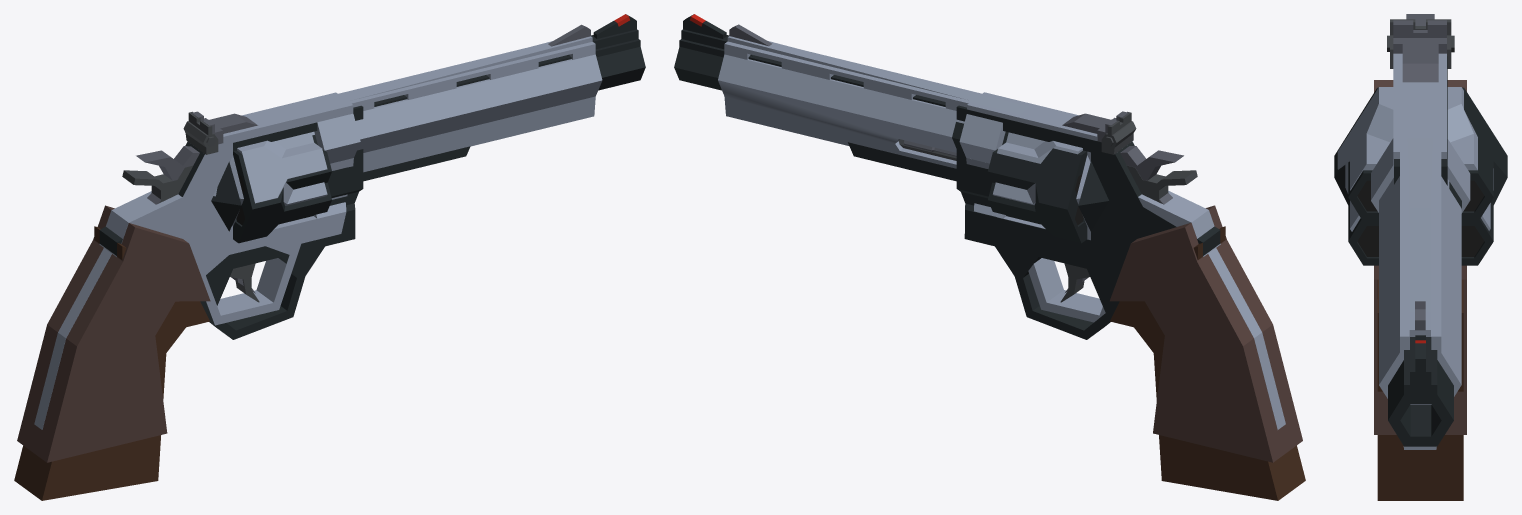
The model's file is pistol-black.glb.
The picture shows the model from 3 angles, left to right: view 1: azimuth 30°, elevation 25°; view 2: azimuth 150°, elevation 25°; view 3: azimuth 270°, elevation 25°; orthographic projection. The views are drawn at different scales.
Parts seen in each view (by area): view 1: Python, Model 29; view 2: Python, Model 29; view 3: Python, Model 29.
Part boxes in pixels (x1,y1,x2,y2): Python: (17, 24, 602, 462); Model 29: (14, 14, 645, 500); Python: (718, 24, 1302, 462); Model 29: (674, 14, 1305, 500); Python: (1337, 14, 1493, 449); Model 29: (1334, 19, 1507, 500).
Bounding box in the file's own units: 2.02 × 1.07 × 0.323.
Materials: 8 (3 with a texture image).
